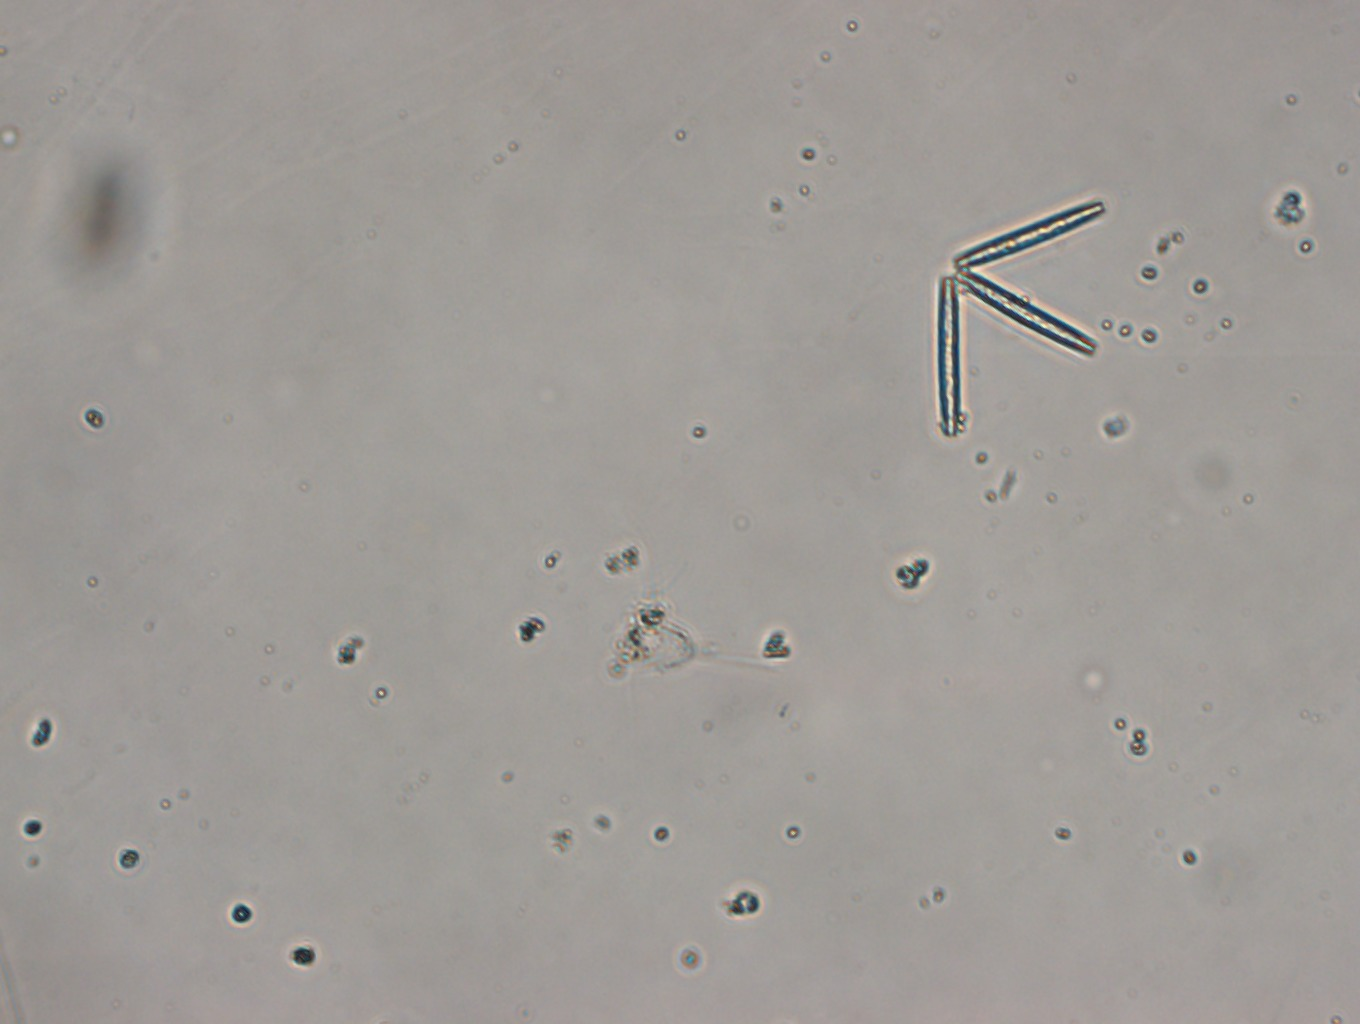thalassionema frauenfeldii: (922, 197, 1118, 441)
